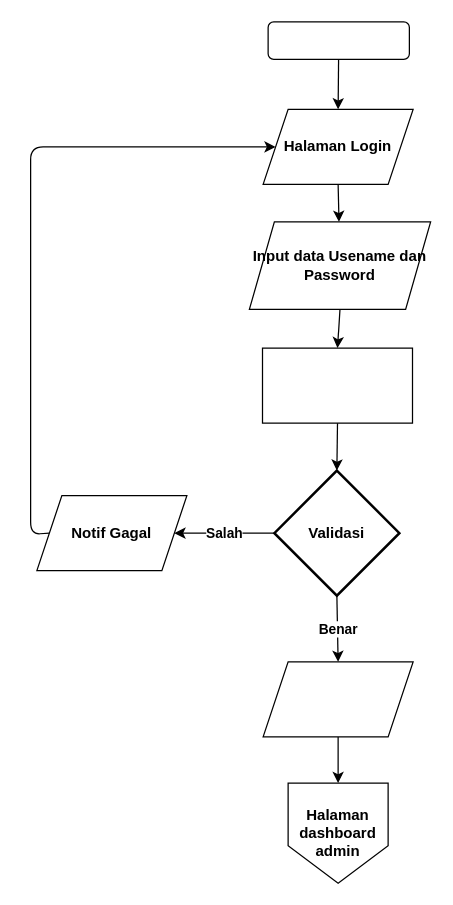
Image size: 453x905. Some labels were removed from this diagram. Here are the shapes that lost their labels. From the top down, the box of each, then its label:
(267, 21, 409, 59): Mulai
(261, 347, 412, 423): Login
(262, 661, 413, 737): Tampil notif berhasil
